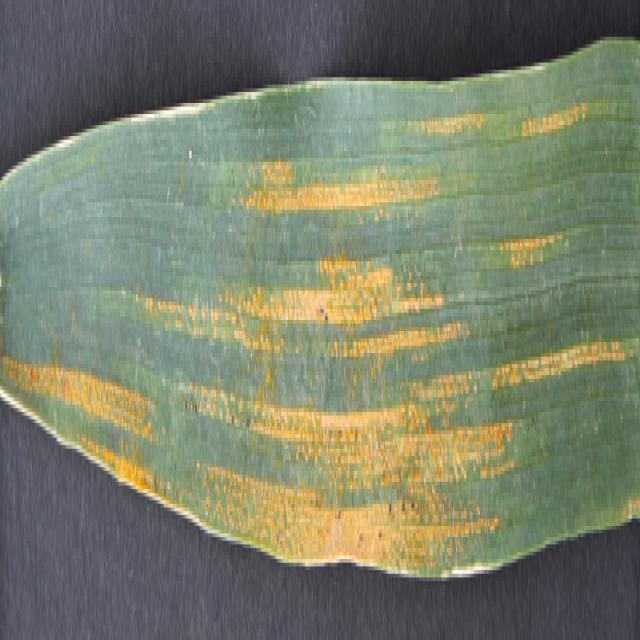leaf rust: (1, 66, 624, 566)
